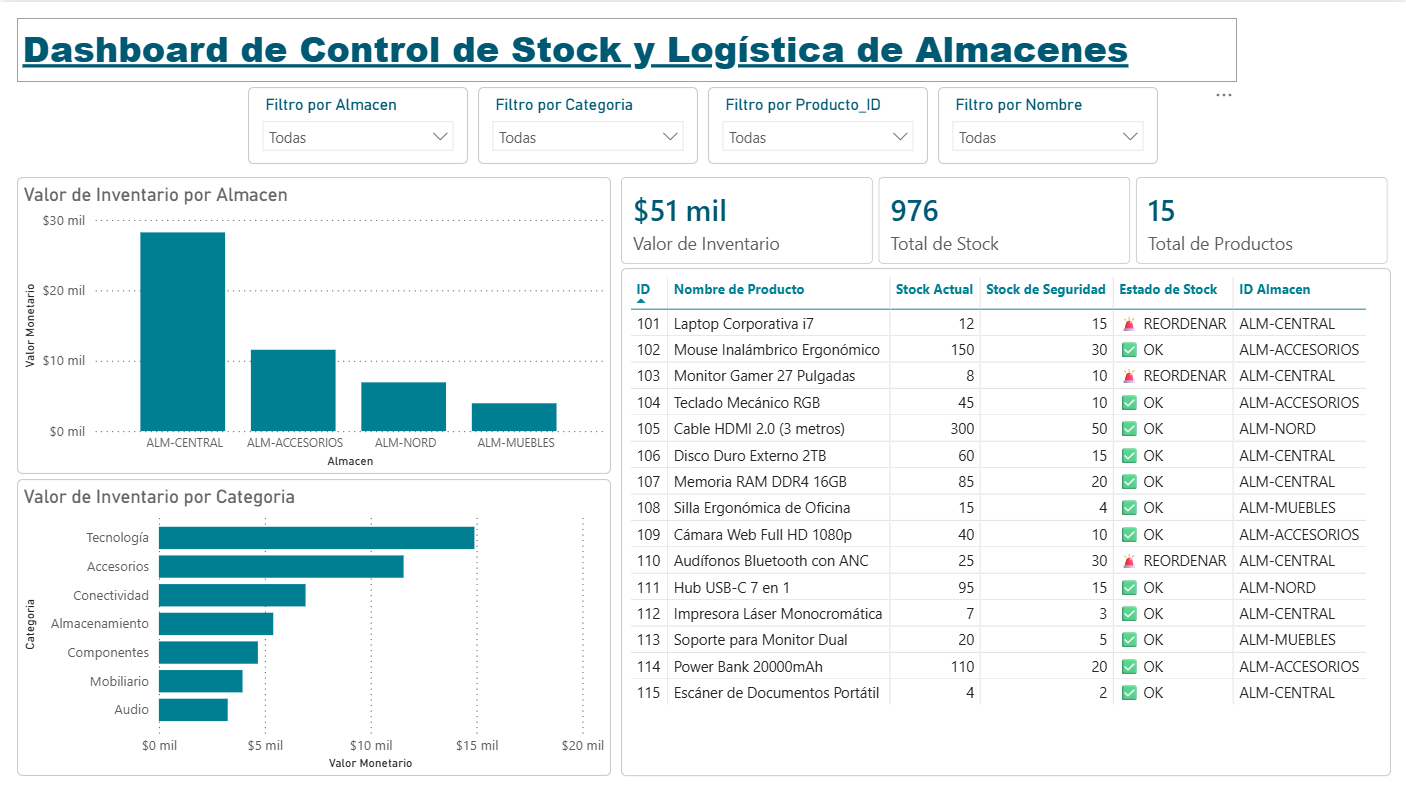

The dashboard page shown, as its layout file describes it:
{"tool":"powerbi","page":{"name":"Gestión y Control de Inventario","canvas":[1280,720],"ordinal":1},"visuals":[{"type":"cardVisual","fields":{"Data":["Sum(Analisis_XYZ.valor_monetario)","Sum(inventario.stock_actual)","Count(inventario.producto_id)"]},"box":[564.8,158.7,699.6,79.8],"z":0},{"type":"clusteredColumnChart","title":"Valor de Inventario por Almacen","fields":{"Category":["inventario.codigo_almacen"],"Y":["Sum(Analisis_XYZ.valor_monetario)"]},"box":[15.1,158.7,540,270],"z":1000},{"type":"tableEx","fields":{"Values":["productos.producto_id","productos.nombre_producto","Sum(inventario.stock_actual)","Sum(inventario.stock_seguridad)","inventario.Estado_Stock","inventario.codigo_almacen"]},"box":[564.8,242.1,699.6,462],"z":2000},{"type":"clusteredBarChart","title":"Valor de Inventario por Categoria","fields":{"Category":["productos.categoria"],"Y":["Sum(Analisis_XYZ.valor_monetario)"]},"box":[15.1,433.6,540,270],"z":3000},{"type":"slicer","fields":{"Values":["inventario.codigo_almacen"]},"box":[225.2,77,200.4,70],"z":4000},{"type":"slicer","fields":{"Values":["productos.producto_id"]},"box":[643.7,77,200.4,70],"z":5000},{"type":"slicer","fields":{"Values":["productos.categoria"]},"box":[434.5,77,200.4,70],"z":6000},{"type":"slicer","fields":{"Values":["productos.nombre_producto"]},"box":[853,77,200.4,70],"z":7000},{"type":"textbox","box":[15.1,14.2,1109.3,58.5],"z":8000}]}

Visuals, with their boxes in screenshot pixels (x1, y1, x2, y2), scaled from the page's 1280x720 canvas onto the 1406x794 screenshot:
cardVisual - Sum(Analisis_XYZ.valor_monetario) x Sum(inventario.stock_actual): (620,175,1389,263)
"Valor de Inventario por Almacen" clusteredColumnChart: (17,175,610,473)
tableEx - productos.producto_id x productos.nombre_producto: (620,267,1389,776)
"Valor de Inventario por Categoria" clusteredBarChart: (17,478,610,776)
slicer - inventario.codigo_almacen: (247,85,467,162)
slicer - productos.producto_id: (707,85,927,162)
slicer - productos.categoria: (477,85,697,162)
slicer - productos.nombre_producto: (937,85,1157,162)
textbox: (17,16,1235,80)
